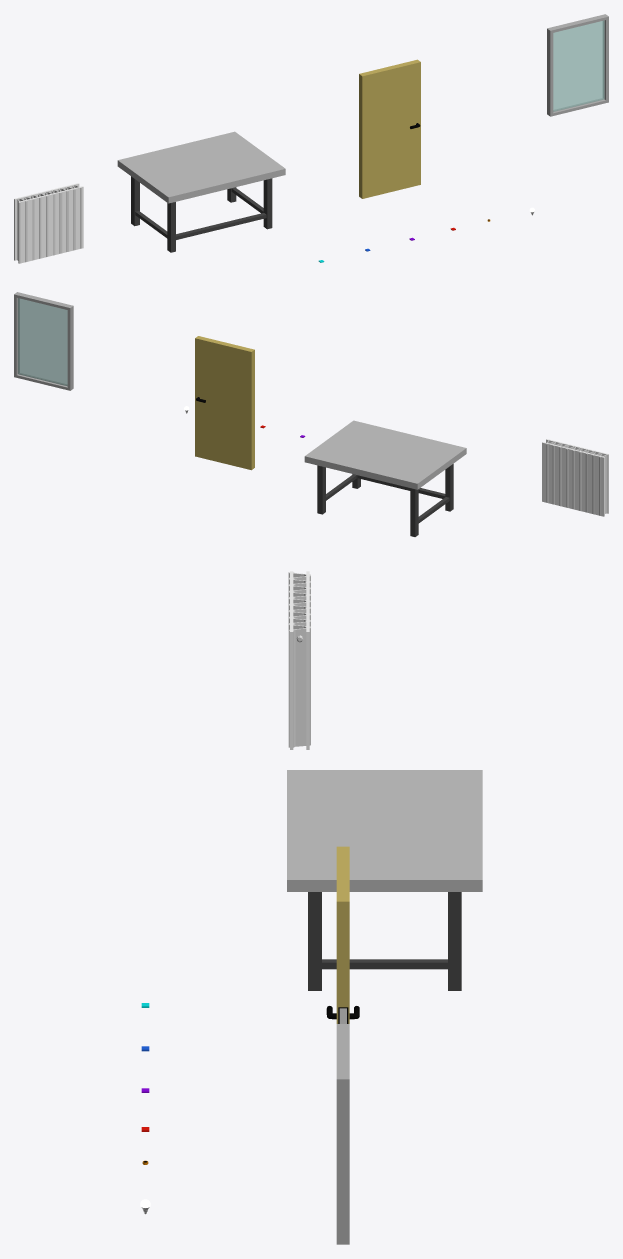
Rendered from roomobjects.glb.
3 views of the same model, one above another, from view 1: azimuth 30°, elevation 25°; view 2: azimuth 150°, elevation 25°; view 3: azimuth 270°, elevation 25° (orthographic). The views are drawn at different scales.
Visible parts, largest first — view 1: _Table, _Door, _Window, _Heater; view 2: _Table, _Door, _Window, _Heater; view 3: _Table, _Heater, _Window, _Door.
Boxes of the visible parts, x1,y1,x2,y2 form: _Table: (117, 131, 285, 252); _Door: (359, 59, 420, 198); _Window: (547, 14, 608, 116); _Heater: (14, 183, 83, 263); _Table: (304, 420, 466, 536); _Door: (195, 336, 254, 470); _Window: (14, 292, 73, 390); _Heater: (542, 439, 608, 516); _Table: (287, 770, 482, 990); _Heater: (288, 571, 310, 749); _Window: (336, 1024, 349, 1244); _Door: (326, 846, 359, 1023).
Bounding box in the file's own units: 10.27 × 2.15 × 2.63.
